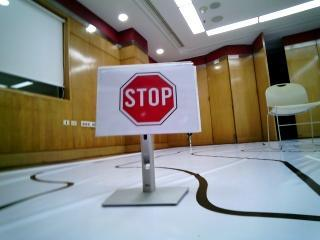stop: (110, 66, 188, 135)
